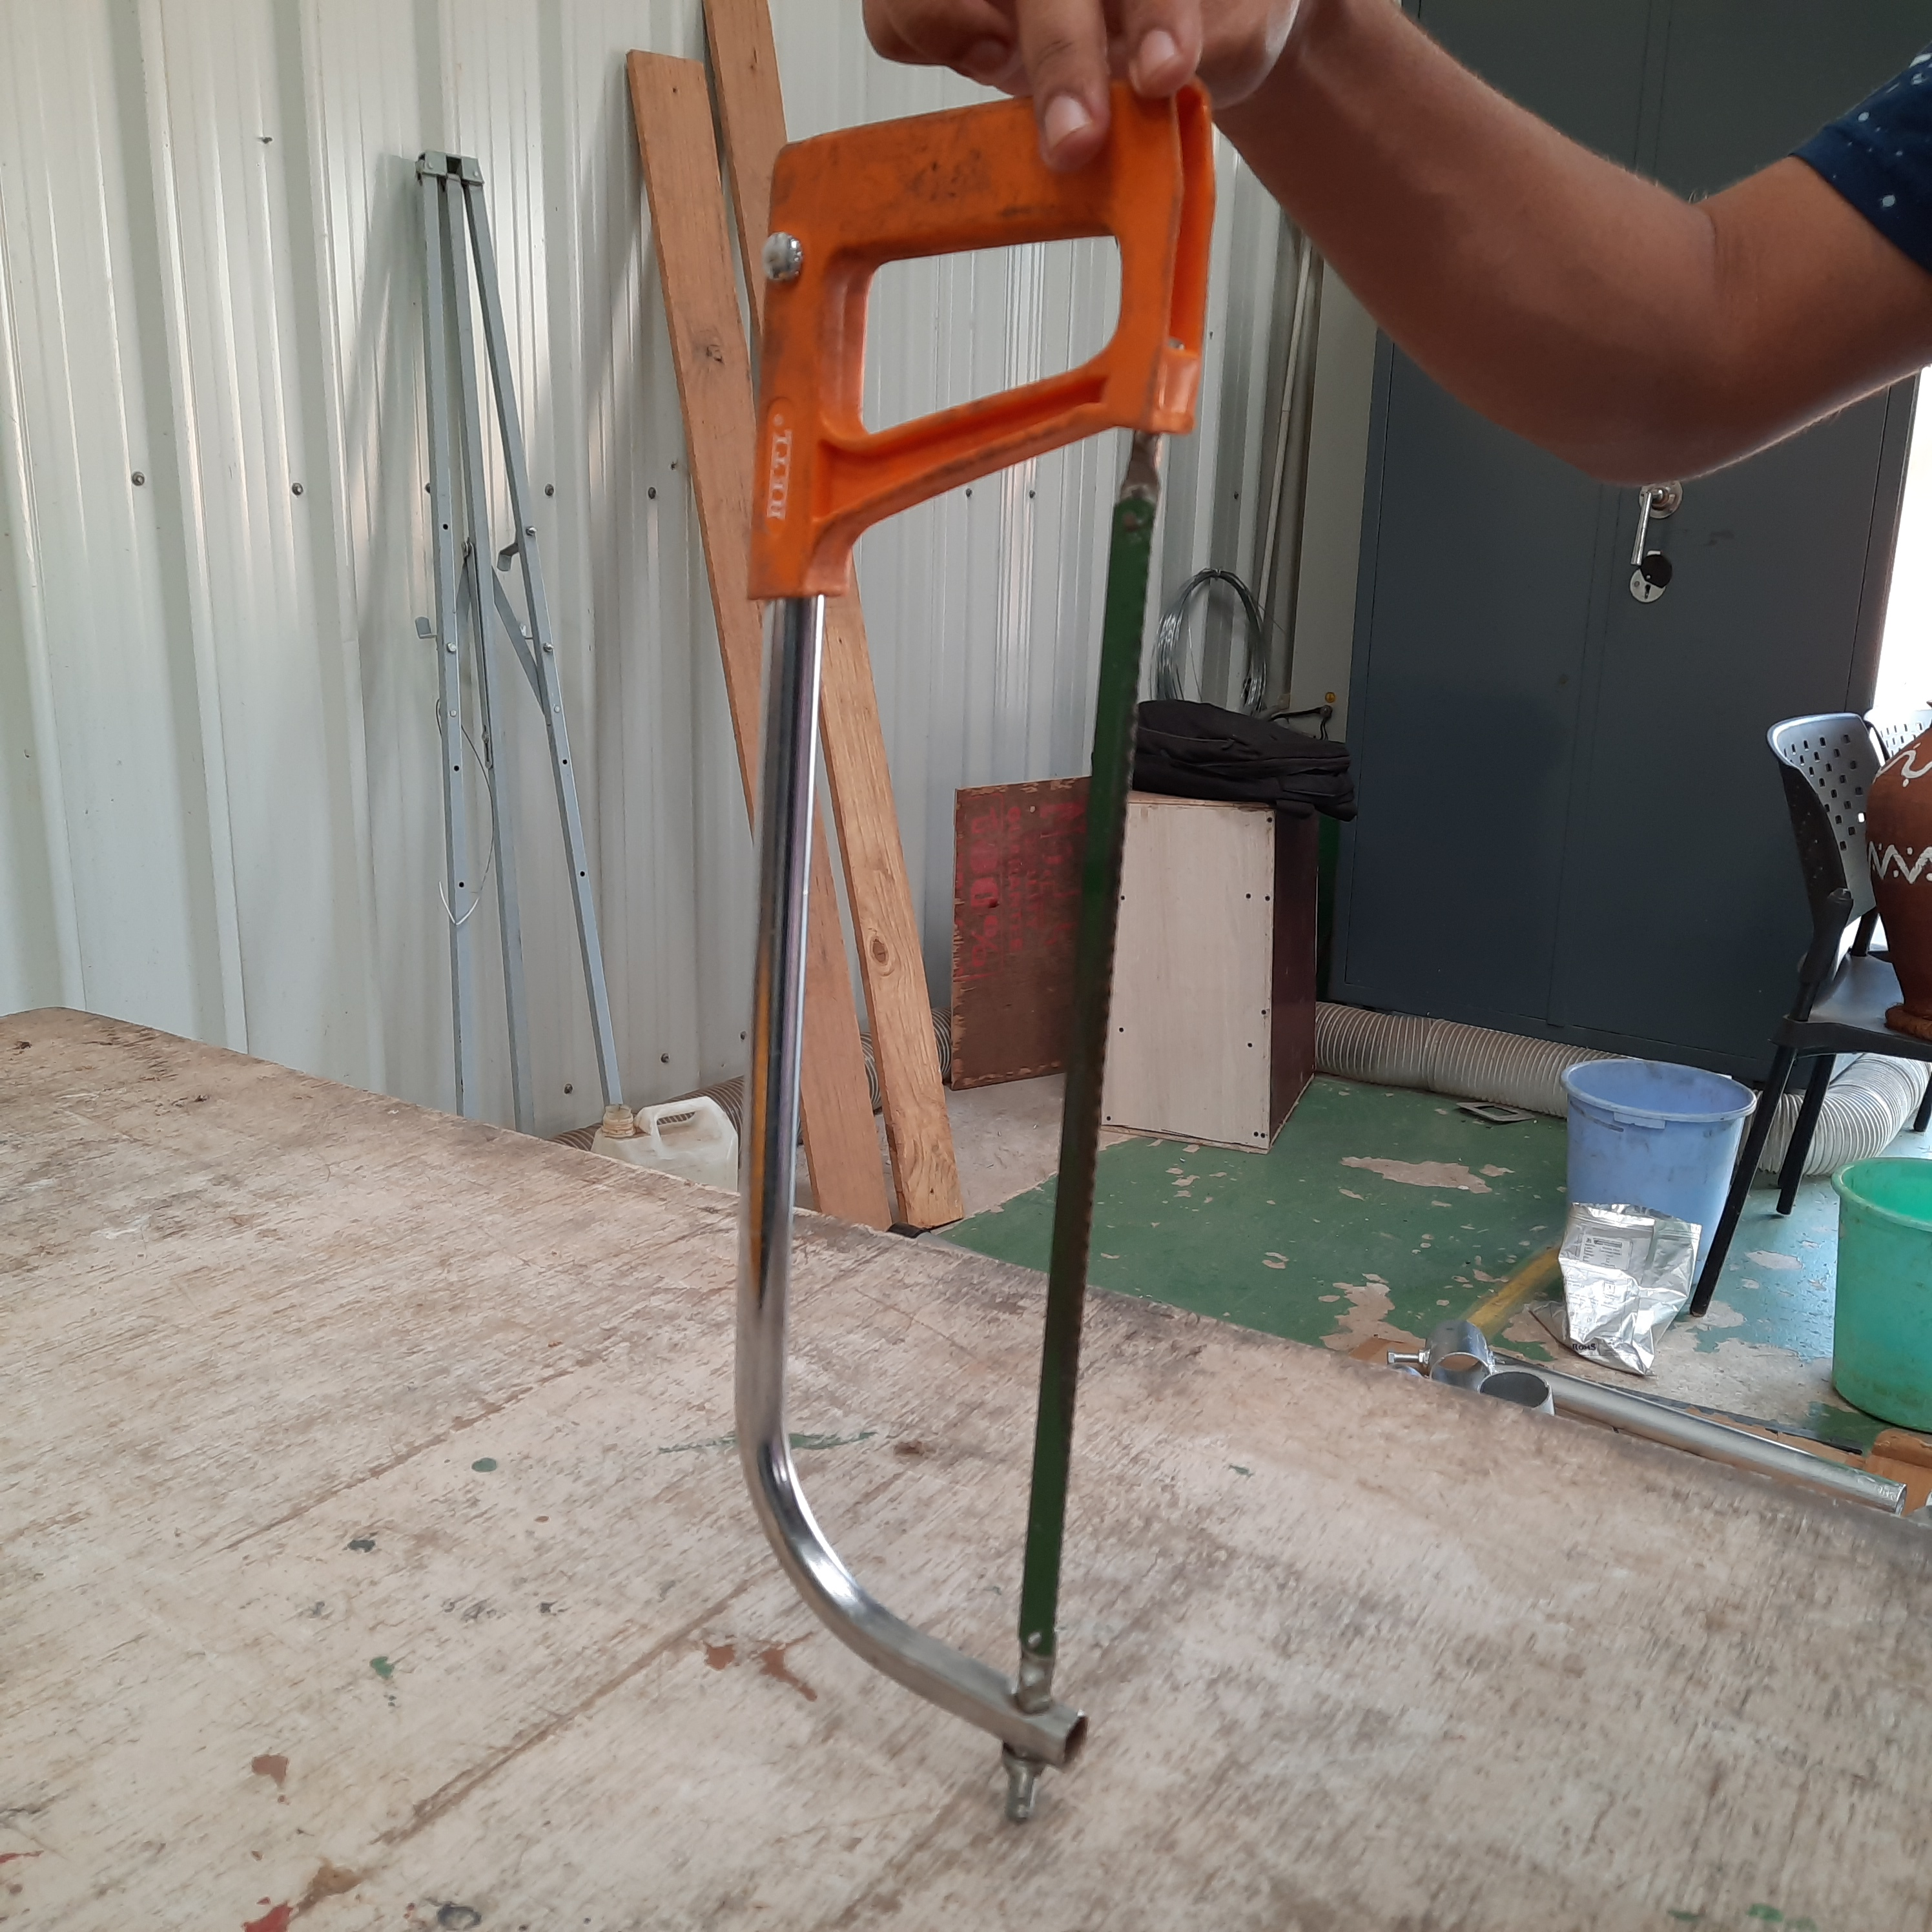Hexaframe: (704, 80, 1196, 1764)
